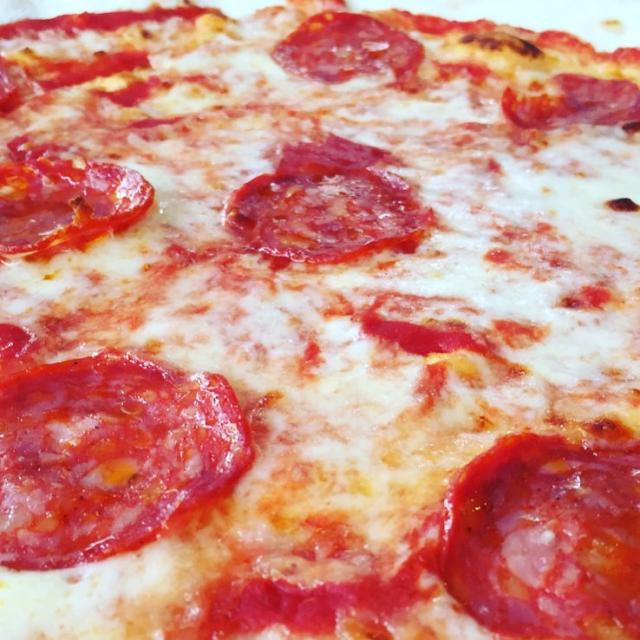pepperoni: (0, 347, 255, 571), (429, 426, 640, 639), (223, 162, 437, 271), (0, 156, 155, 263), (265, 9, 426, 93), (497, 72, 640, 141), (0, 54, 32, 108)
pizza: (0, 0, 640, 640)
